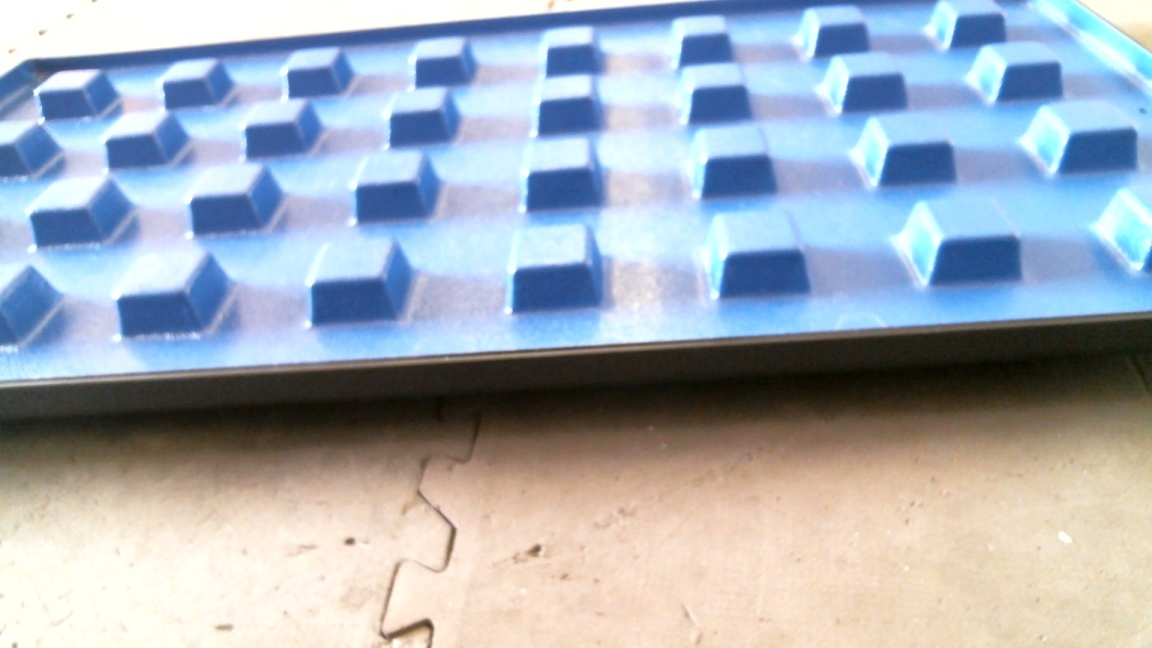blue_foundation: (1, 15, 1137, 427)
